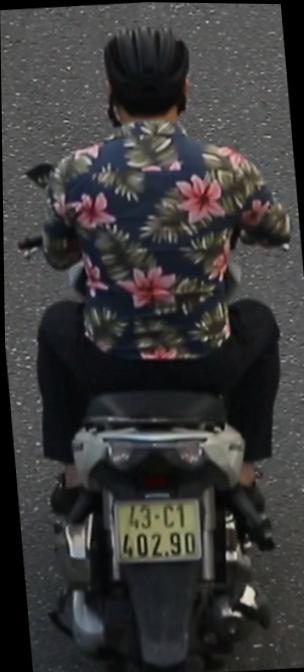LP: (108, 485, 203, 574)
helmet: (98, 14, 199, 141)
